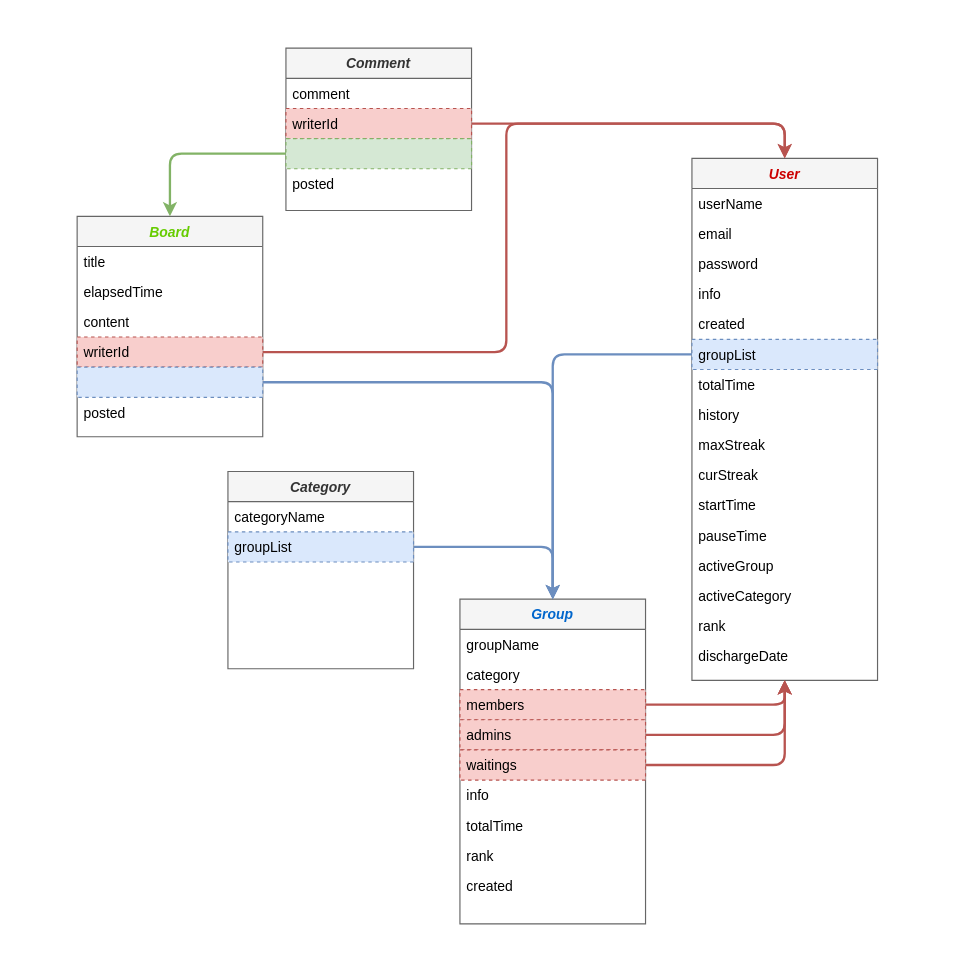
This 966x966 diagram has some shape labels left out. Here are the shapes that lost their labels. From the top down, the centre of each, then its label:
the point at 378,153: boardId
the point at 169,381: groupId
